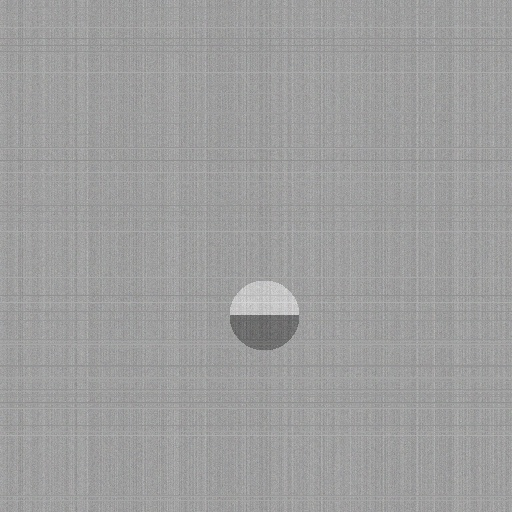deformation: (224, 275, 304, 355)
